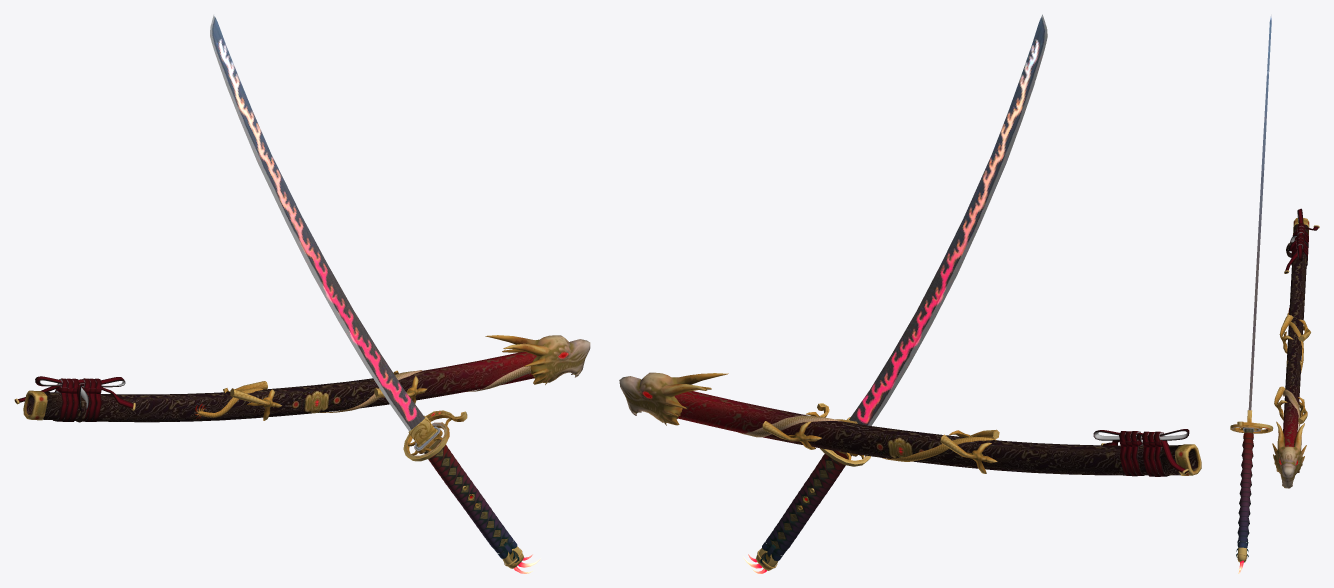
The picture shows the model from 3 angles, left to right: view 1: azimuth 30°, elevation 25°; view 2: azimuth 150°, elevation 25°; view 3: azimuth 270°, elevation 25°; orthographic projection. The views are drawn at different scales.
Visible parts, largest first — view 1: ck_scabbard_low, ck_blade_low; view 2: ck_scabbard_low, ck_blade_low; view 3: ck_scabbard_low, ck_blade_low.
Boxes of the visible parts, left/top/right/bottom form: ck_scabbard_low: left=14, top=335, right=590, bottom=422; ck_blade_low: left=210, top=14, right=540, bottom=573; ck_scabbard_low: left=619, top=372, right=1201, bottom=476; ck_blade_low: left=743, top=14, right=1047, bottom=573; ck_scabbard_low: left=1272, top=208, right=1319, bottom=488; ck_blade_low: left=1230, top=14, right=1273, bottom=573.
Size of the model in its own units: 57.35 by 60.77 by 10.84.
Materials: 1 (1 with a texture image).
